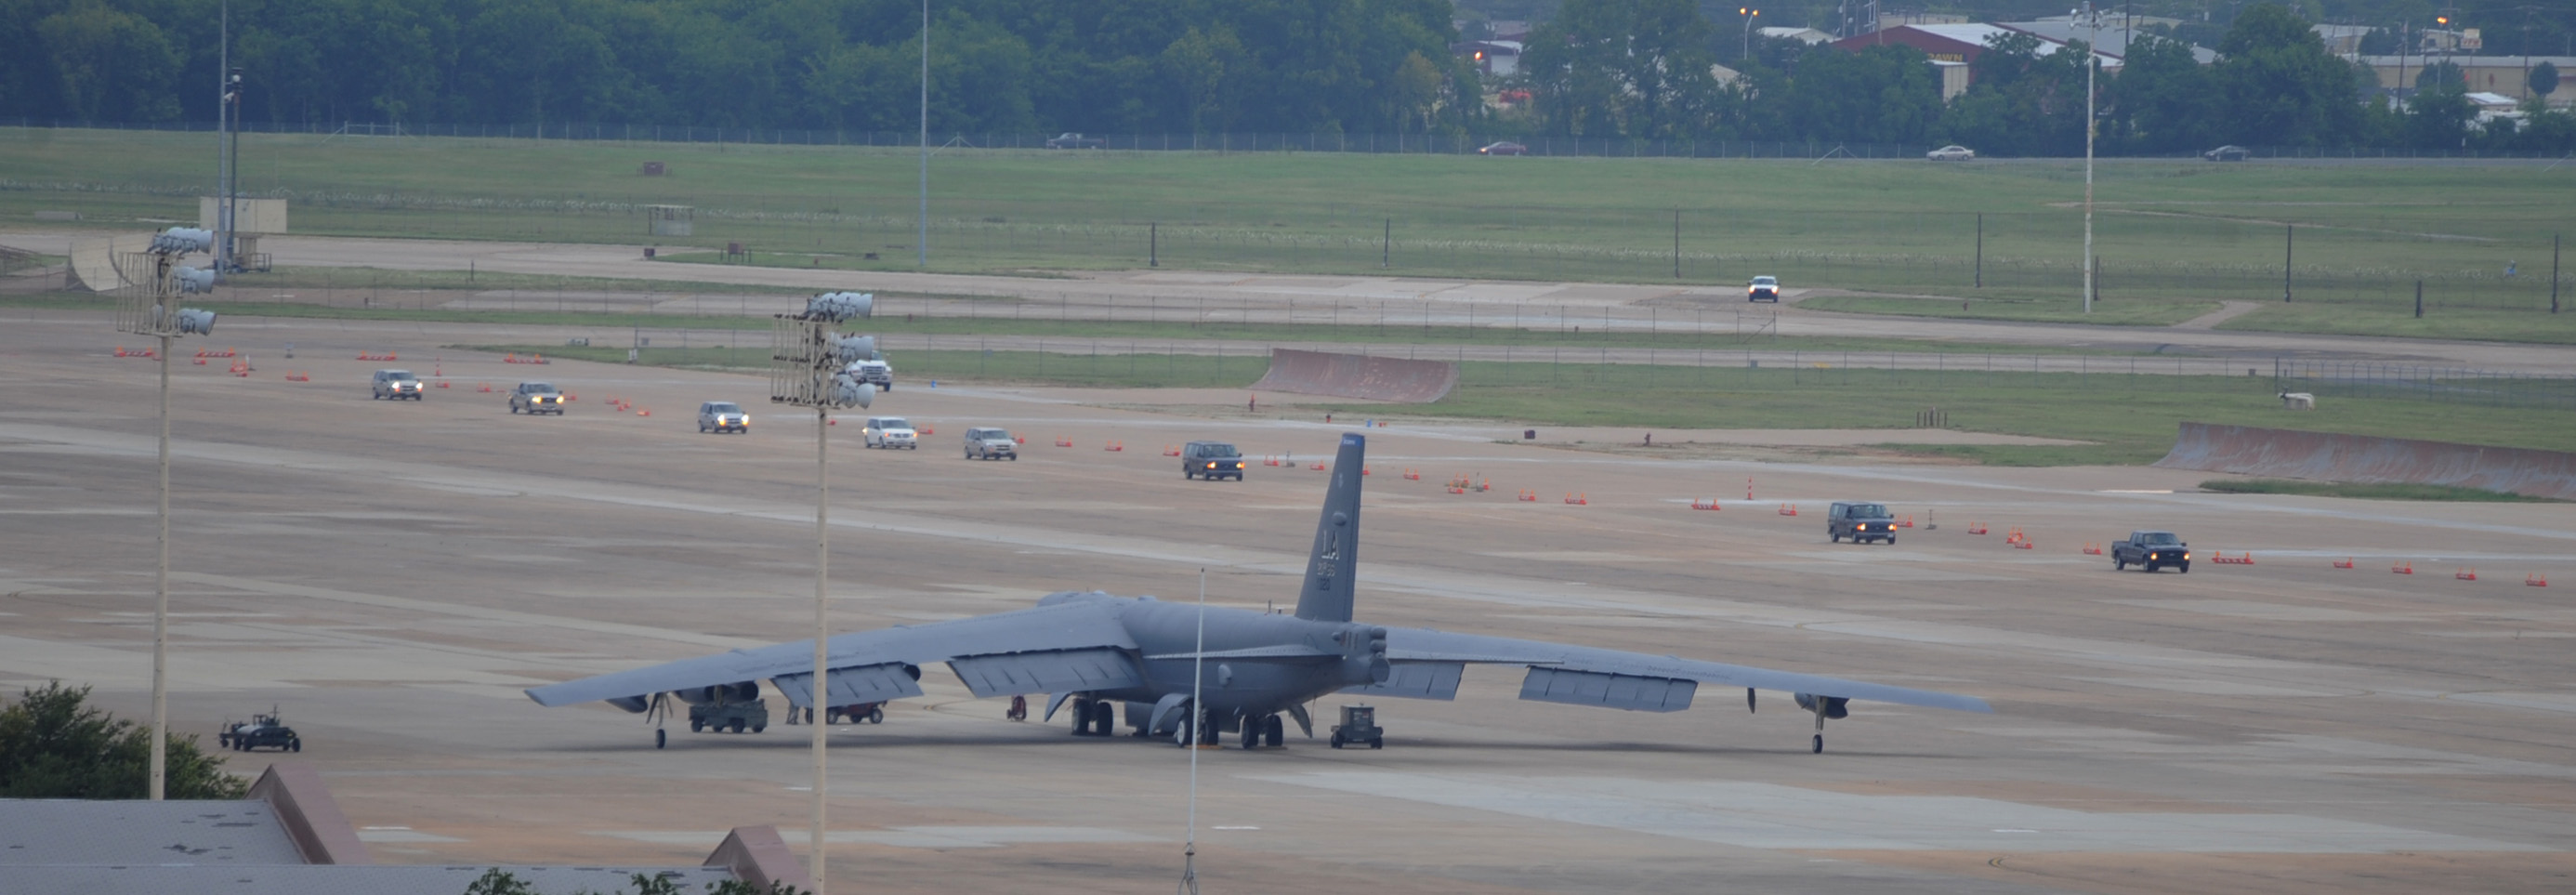B52: (521, 429, 1994, 752)
